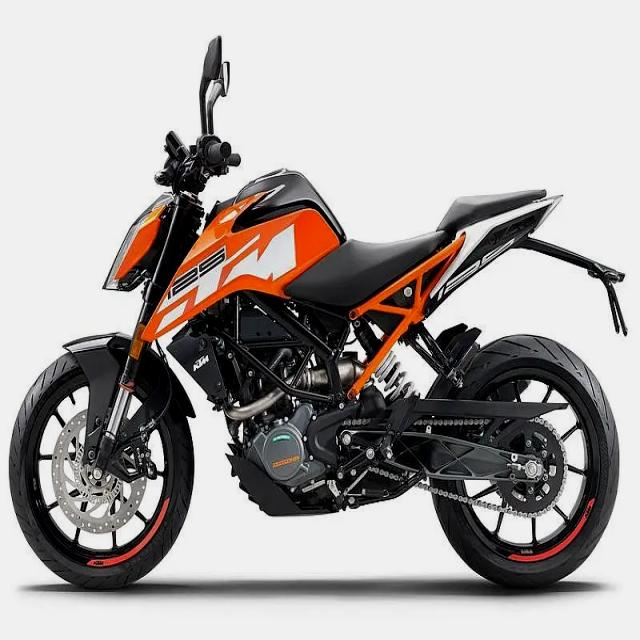MOTORCYCLE: (6, 71, 622, 592)
